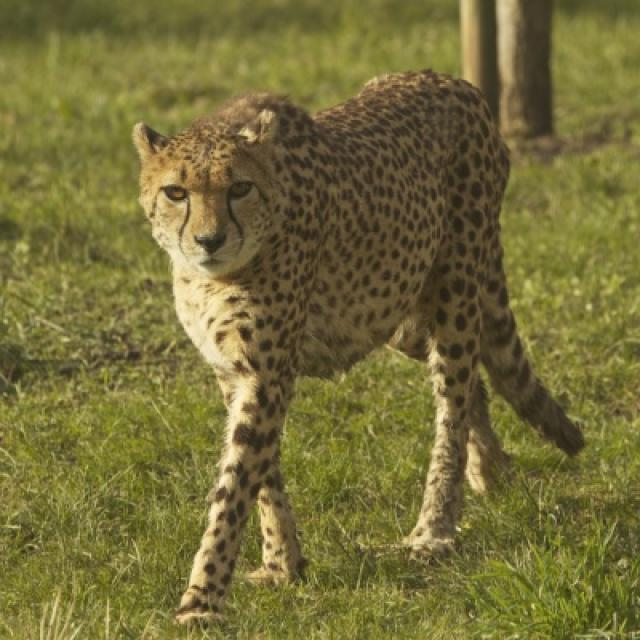Cheetah: (131, 70, 586, 624)
